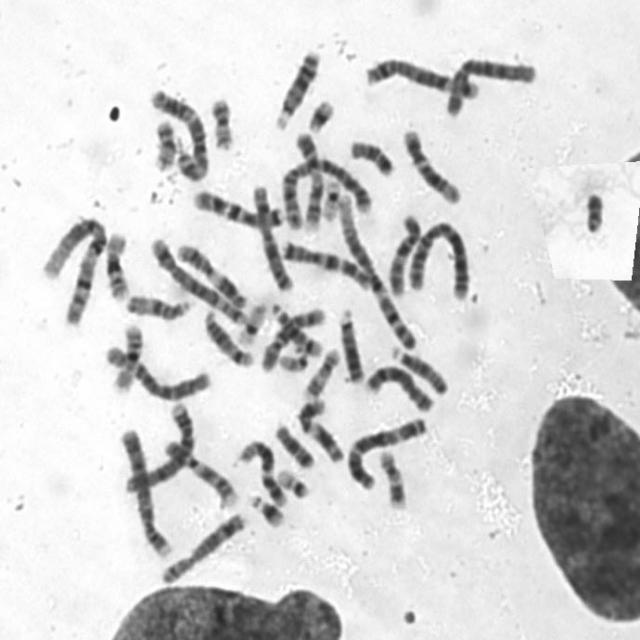A1: (331, 186, 418, 352), (34, 208, 110, 327)
A2: (276, 150, 374, 232), (402, 213, 472, 301)
A3: (340, 410, 430, 492), (145, 81, 213, 183)
B4: (114, 420, 174, 560), (118, 394, 198, 496)
B5: (144, 231, 249, 325), (359, 51, 481, 100)
C10: (255, 300, 327, 374), (382, 207, 424, 297)
C11: (170, 236, 248, 310), (291, 392, 345, 464)
C12: (397, 122, 464, 206), (233, 432, 288, 508)
C6: (100, 339, 214, 402), (440, 51, 539, 119)
C7: (276, 233, 374, 291), (188, 182, 286, 230)
C8: (155, 505, 249, 586), (359, 358, 436, 413)
C9: (158, 432, 239, 509), (290, 123, 325, 234)
D13: (269, 41, 323, 131), (333, 302, 366, 384)
D14: (198, 302, 255, 369), (265, 298, 323, 360)
D15: (386, 339, 452, 397), (120, 287, 196, 322)
E16: (106, 317, 146, 393), (99, 225, 133, 302)
E17: (298, 342, 342, 400), (373, 443, 409, 511)
E18: (270, 416, 316, 471), (343, 132, 397, 178)
F19: (231, 296, 269, 346), (317, 172, 342, 222)
F20: (205, 89, 237, 152), (147, 112, 178, 173)
G21: (245, 488, 287, 530), (302, 91, 336, 134)
G22: (272, 462, 312, 500), (274, 344, 310, 373)
X: (246, 178, 294, 292)
Y: (580, 186, 606, 235)
